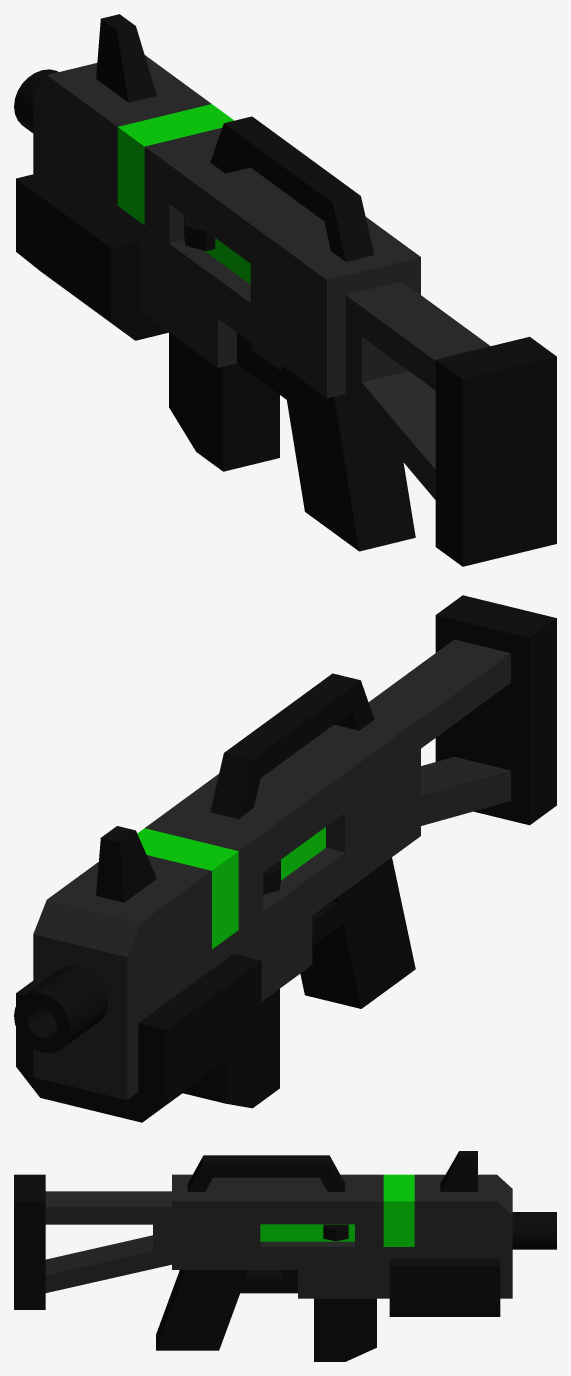
File: blaster.fbx
The picture shows the model from 3 angles, top to bottom: view 1: azimuth 30°, elevation 25°; view 2: azimuth 150°, elevation 25°; view 3: azimuth 270°, elevation 25°; orthographic projection. The views are drawn at different scales.
Visible parts, largest first — view 1: blasterD; view 2: blasterD; view 3: blasterD.
Boxes of the visible parts, box(x1,y1,x2,y2) form: blasterD: box(14, 14, 556, 566); blasterD: box(14, 595, 556, 1122); blasterD: box(14, 1151, 556, 1361).
Size of the model in its own units: 6.3 by 13.78 by 33.86.
